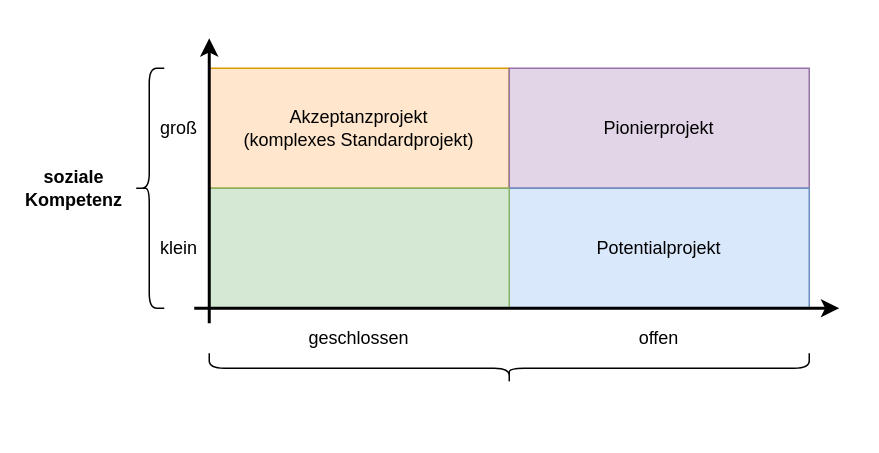
Image size: 879x453. Some labels were removed from this diagram. The centre of each missing label's shape, as x and y in pixels:
Aufgabenstellung: the point at 508,367
Standardprojekt: the point at 358,247
